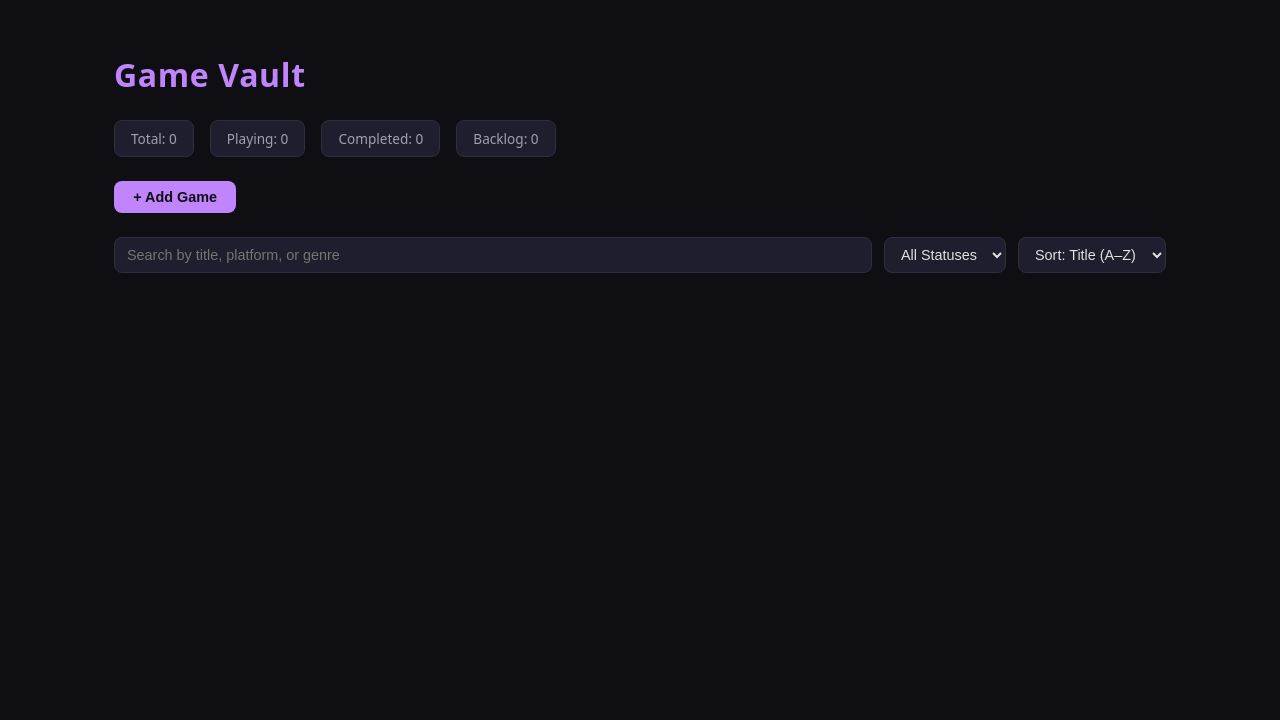
Test: Add Game › closes the form without adding when Cancel is clicked
This screenshot has width=1280, height=720.
Click the button "+ Add Game" at (175, 197), box x1=114 y1=181 x2=236 y2=213
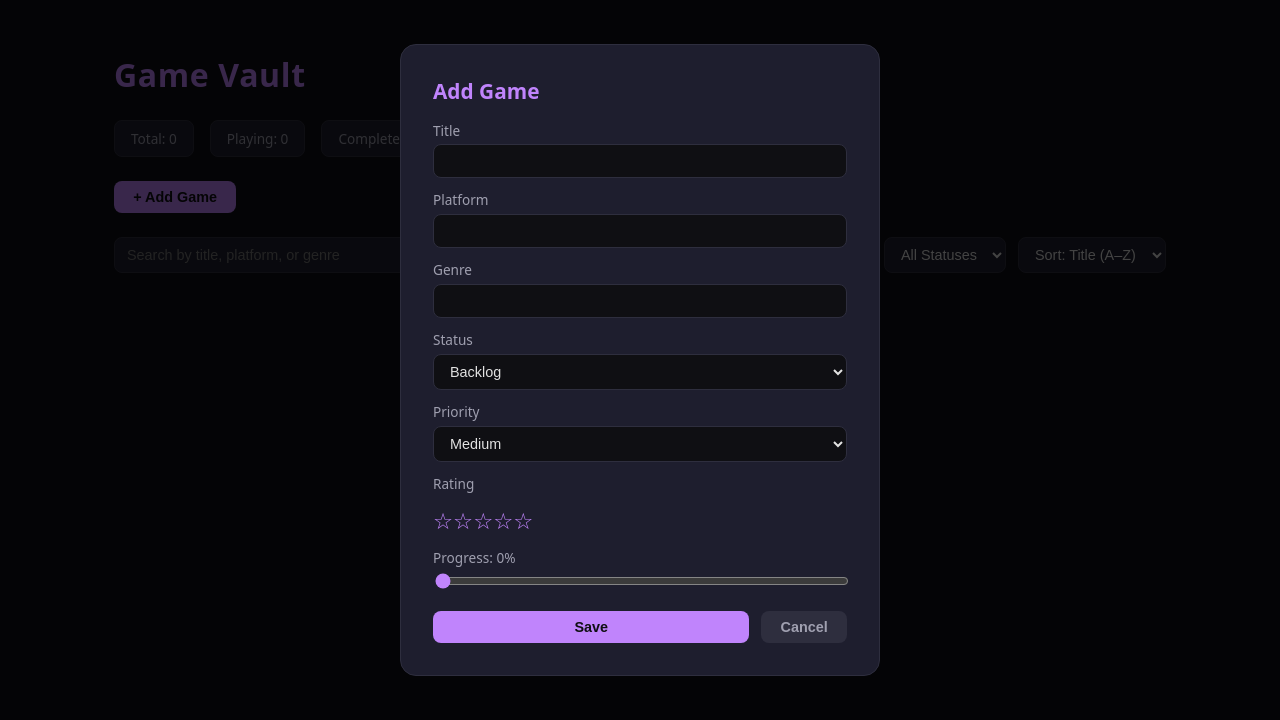
Type "Hollow Knight" into the field labelled "Title" at (640, 161), box x1=433 y1=144 x2=847 y2=178
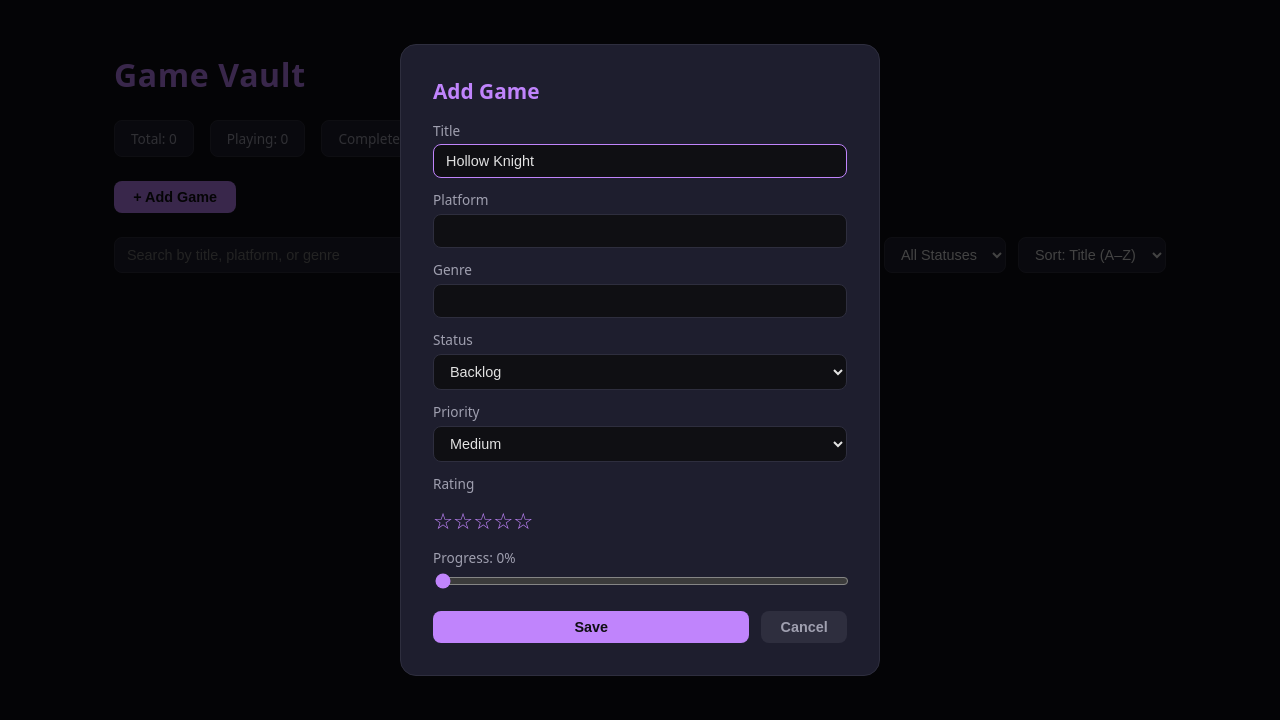
Click the button "Cancel" at (804, 627), box x1=761 y1=611 x2=847 y2=643
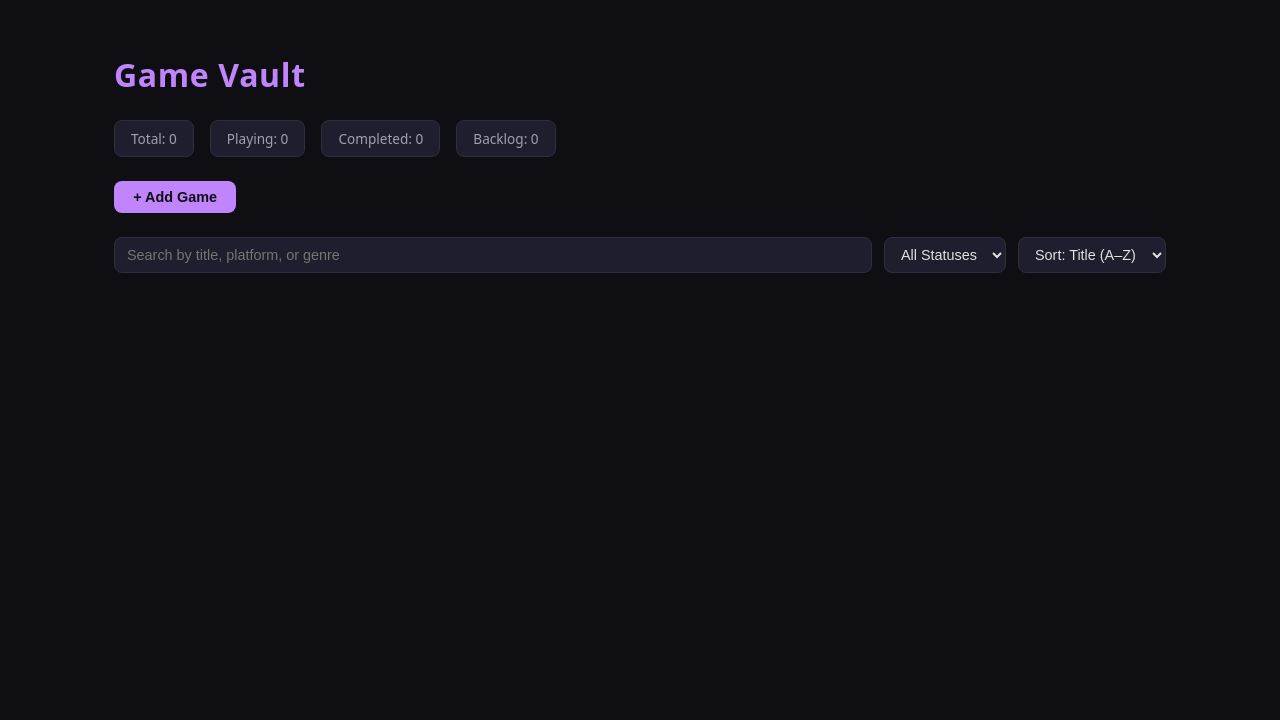
Expected: the text "Hollow Knight" is not shown
Now the element with class "modal" is gone
